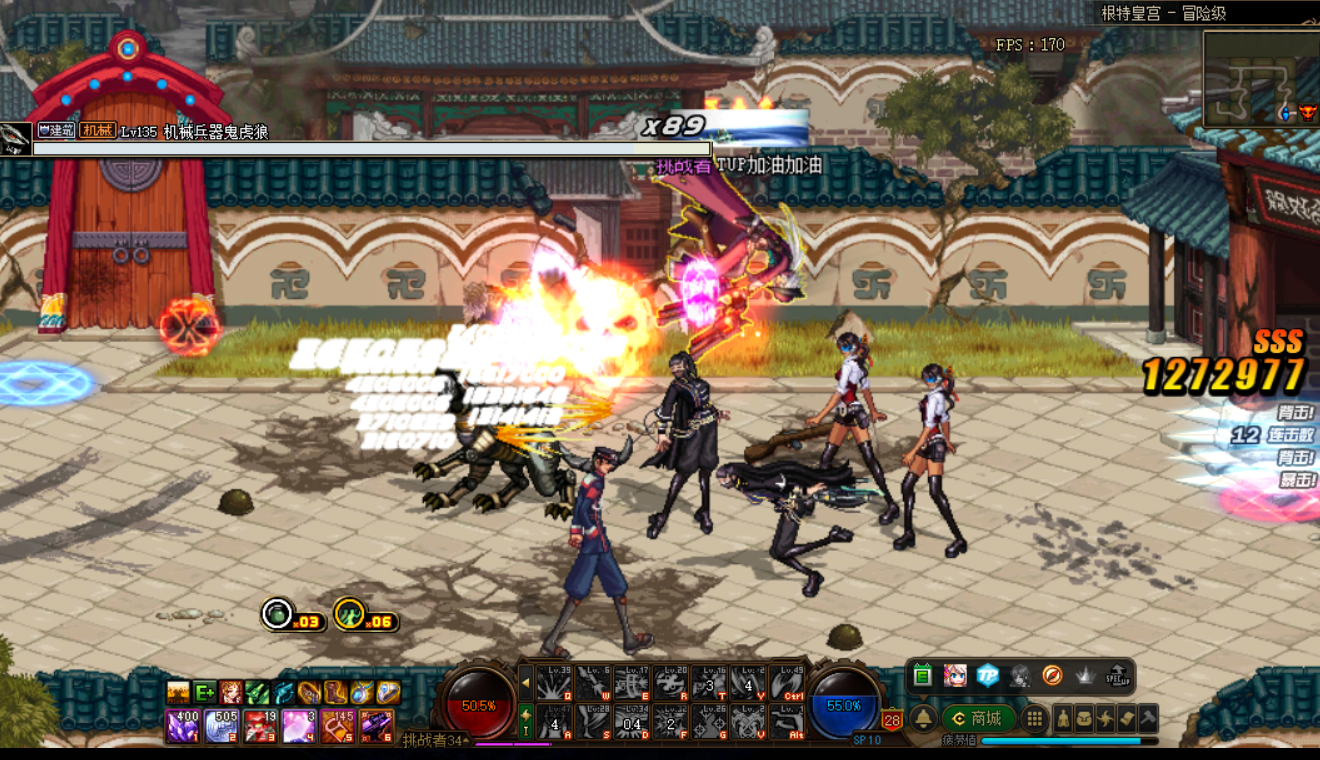monster: (536, 440, 657, 659), (421, 334, 573, 507), (711, 454, 884, 599), (809, 326, 908, 535), (640, 347, 734, 539), (894, 361, 975, 563)
warrior: (611, 155, 812, 347)
